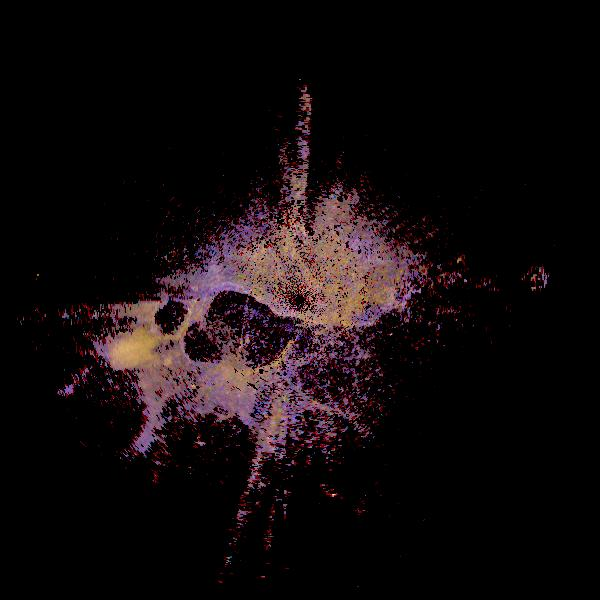roost: (42, 328, 189, 475)
